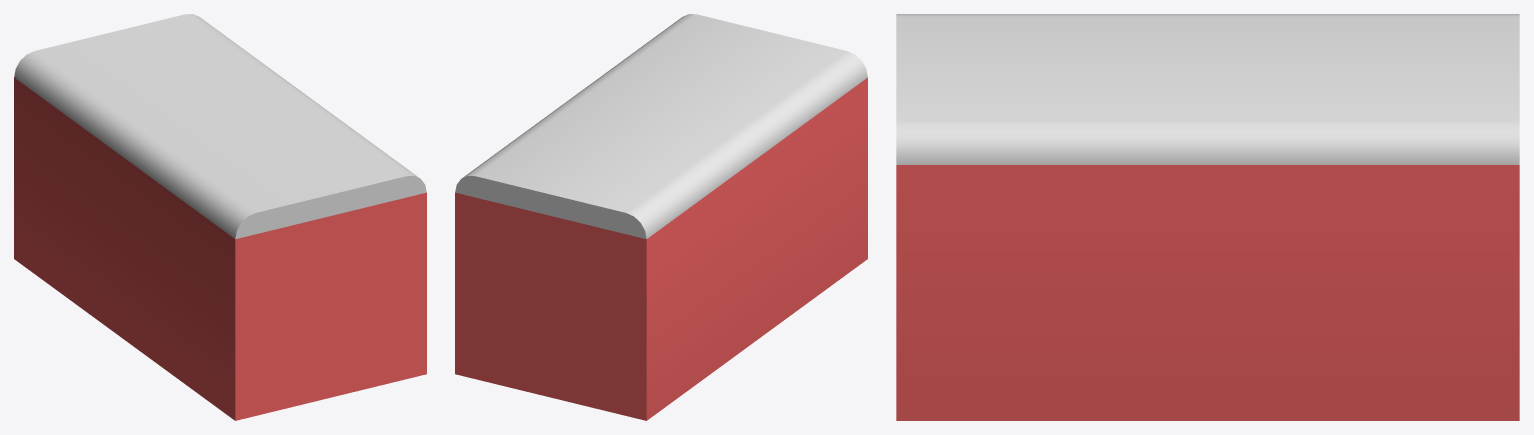
File: CubeForTile_07.2.fbx
3 renders of one model, left to right at view 1: azimuth 30°, elevation 25°; view 2: azimuth 150°, elevation 25°; view 3: azimuth 270°, elevation 25°, orthographic. The views are drawn at different scales.
Parts seen in each view (by area): view 1: CubeForTile_07.2; view 2: CubeForTile_07.2; view 3: CubeForTile_07.2.
Boxes of the visible parts, bbox=[...] form: CubeForTile_07.2: bbox=[14, 14, 426, 420]; CubeForTile_07.2: bbox=[455, 14, 867, 420]; CubeForTile_07.2: bbox=[896, 14, 1519, 420].
Bounding box in the file's own units: 100 × 101 × 200.
